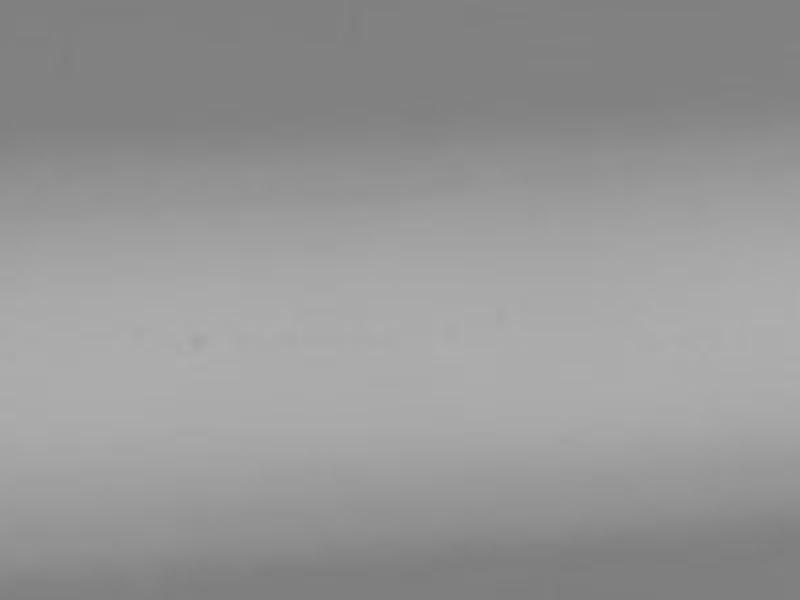defect: (131, 321, 151, 345), (190, 333, 210, 352)
